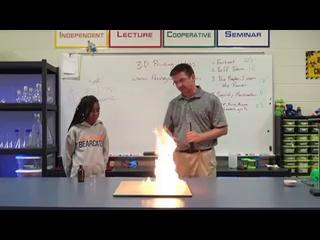Fire: (141, 128, 188, 194)
